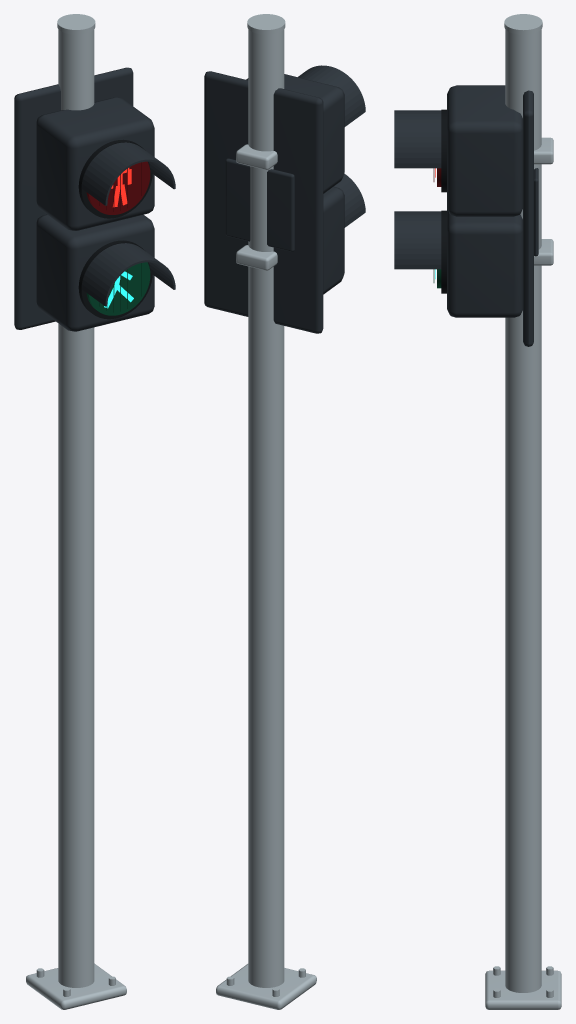
Rendered from DS_Signal_Pedestrian.glb.
3 views of the same model, side by side, from view 1: azimuth 30°, elevation 25°; view 2: azimuth 150°, elevation 25°; view 3: azimuth 270°, elevation 25° (orthographic).
Visible parts, largest first — view 1: Post.014, Module_Red.002, Backplate.002, Module_Green.003, SunVisor.007, SunVisor.008, BasePlate.014, Lens_Green.003, Lens_Red.002, LensSeal.008, LensSeal.007, PostCap.014; view 2: Post.014, Backplate.002, ServiceDoor.002, Module_Red.002, BasePlate.014, Module_Green.003, SunVisor.007, SunVisor.008, MountBracket.005, MountBracket.004, PostCap.014; view 3: Post.014, Module_Red.002, Module_Green.003, SunVisor.007, SunVisor.008, Backplate.002, BasePlate.014, PostCap.014, LensSeal.007, LensSeal.008, MountBracket.004, ServiceDoor.002 (+1 smaller).
Part boxes in pixels (x1,y1,x2,y2): Post.014: [58, 29, 94, 987]; Module_Red.002: [36, 97, 154, 230]; Backplate.002: [14, 67, 133, 329]; Module_Green.003: [36, 214, 154, 331]; SunVisor.007: [82, 142, 175, 205]; SunVisor.008: [82, 243, 175, 306]; BasePlate.014: [26, 963, 126, 1009]; Lens_Green.003: [86, 262, 150, 315]; Lens_Red.002: [86, 161, 150, 214]; LensSeal.008: [78, 240, 152, 319]; LensSeal.007: [78, 139, 152, 218]; PostCap.014: [57, 14, 95, 34]; Post.014: [248, 29, 284, 987]; Backplate.002: [204, 71, 323, 333]; ServiceDoor.002: [225, 158, 294, 251]; Module_Red.002: [246, 74, 344, 193]; BasePlate.014: [216, 964, 316, 1009]; Module_Green.003: [323, 186, 344, 294]; SunVisor.007: [298, 65, 365, 126]; SunVisor.008: [334, 173, 365, 227]; MountBracket.005: [236, 245, 277, 270]; MountBracket.004: [236, 144, 277, 169]; PostCap.014: [247, 14, 285, 34]; Post.014: [505, 29, 541, 992]; Module_Red.002: [447, 85, 522, 216]; Module_Green.003: [447, 208, 522, 317]; SunVisor.007: [394, 110, 441, 168]; SunVisor.008: [394, 211, 441, 269]; Backplate.002: [523, 90, 533, 346]; BasePlate.014: [485, 970, 561, 1009]; PostCap.014: [504, 14, 542, 34]; LensSeal.007: [441, 109, 446, 192]; LensSeal.008: [441, 210, 446, 293]; MountBracket.004: [534, 137, 553, 164]; ServiceDoor.002: [534, 168, 538, 256].
Bounding box in the file's own units: 0.43 × 3.37 × 0.525.
